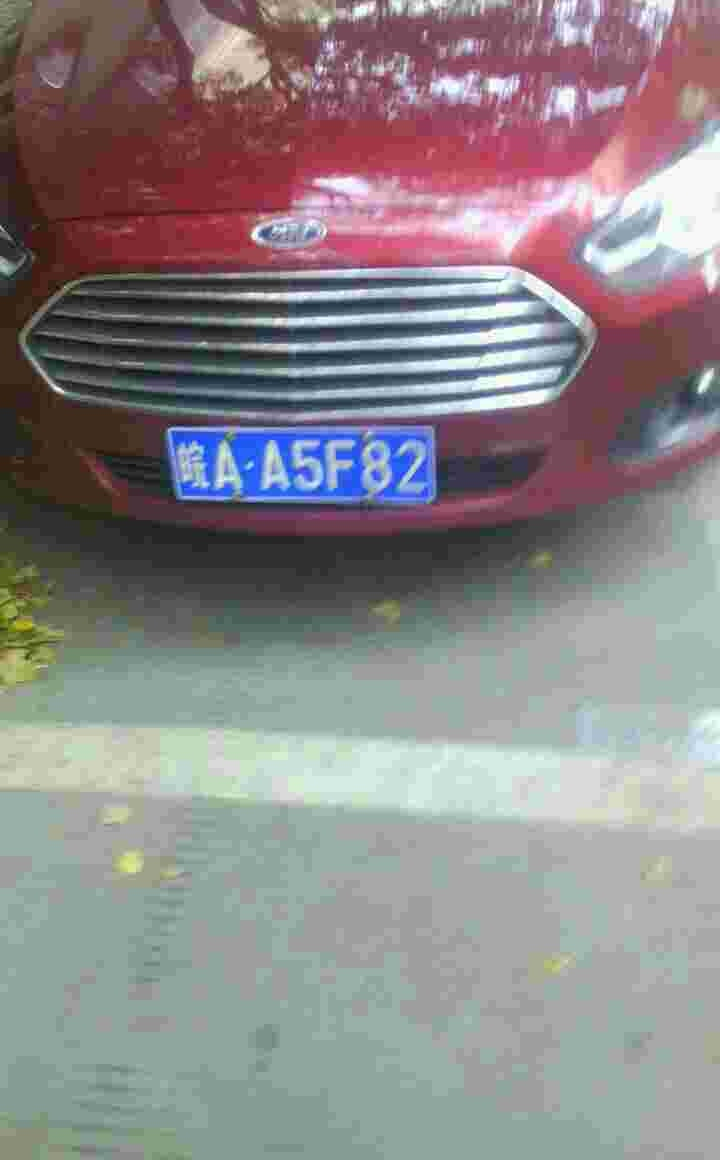plate: (170, 424, 441, 506)
